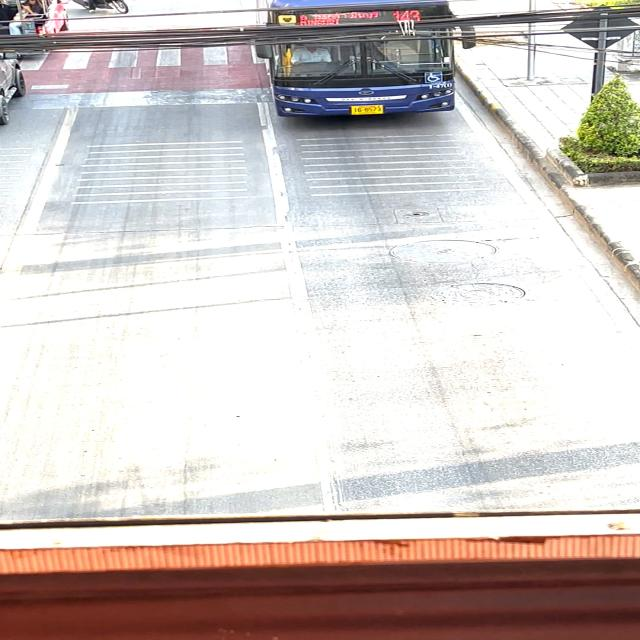car: (238, 0, 468, 135)
